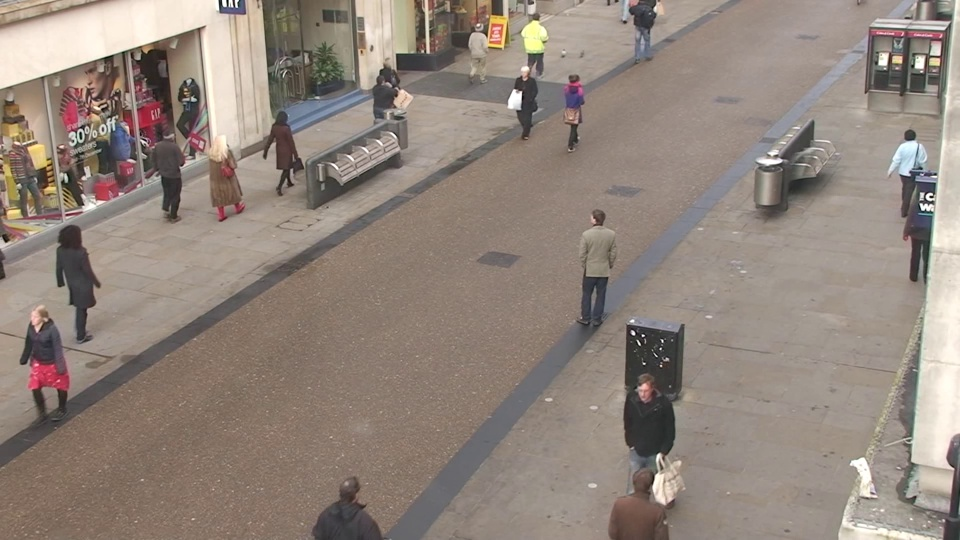pedestrian: (14, 298, 81, 441), (618, 369, 672, 529), (50, 221, 106, 342), (612, 455, 672, 540), (321, 464, 387, 540), (580, 203, 618, 323), (884, 125, 929, 226), (133, 133, 175, 230), (203, 129, 241, 226), (266, 107, 301, 199), (367, 71, 397, 154), (560, 68, 588, 151), (512, 63, 540, 144), (374, 56, 403, 134), (467, 20, 492, 89), (523, 10, 547, 77)
